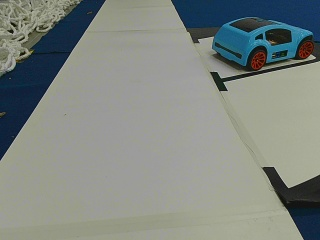car: (212, 17, 313, 70)
